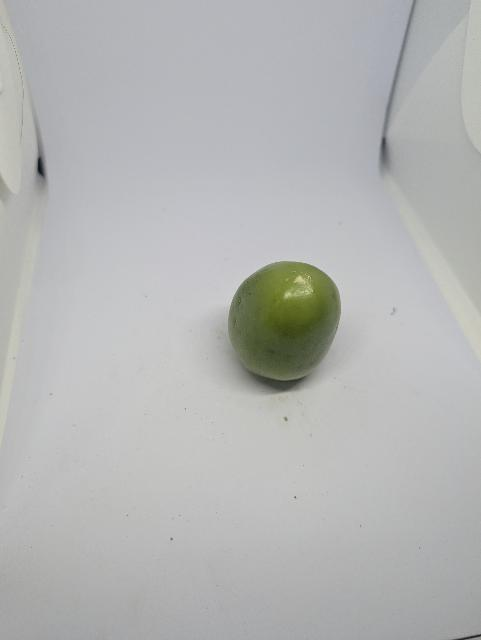green: (209, 249, 355, 409)
